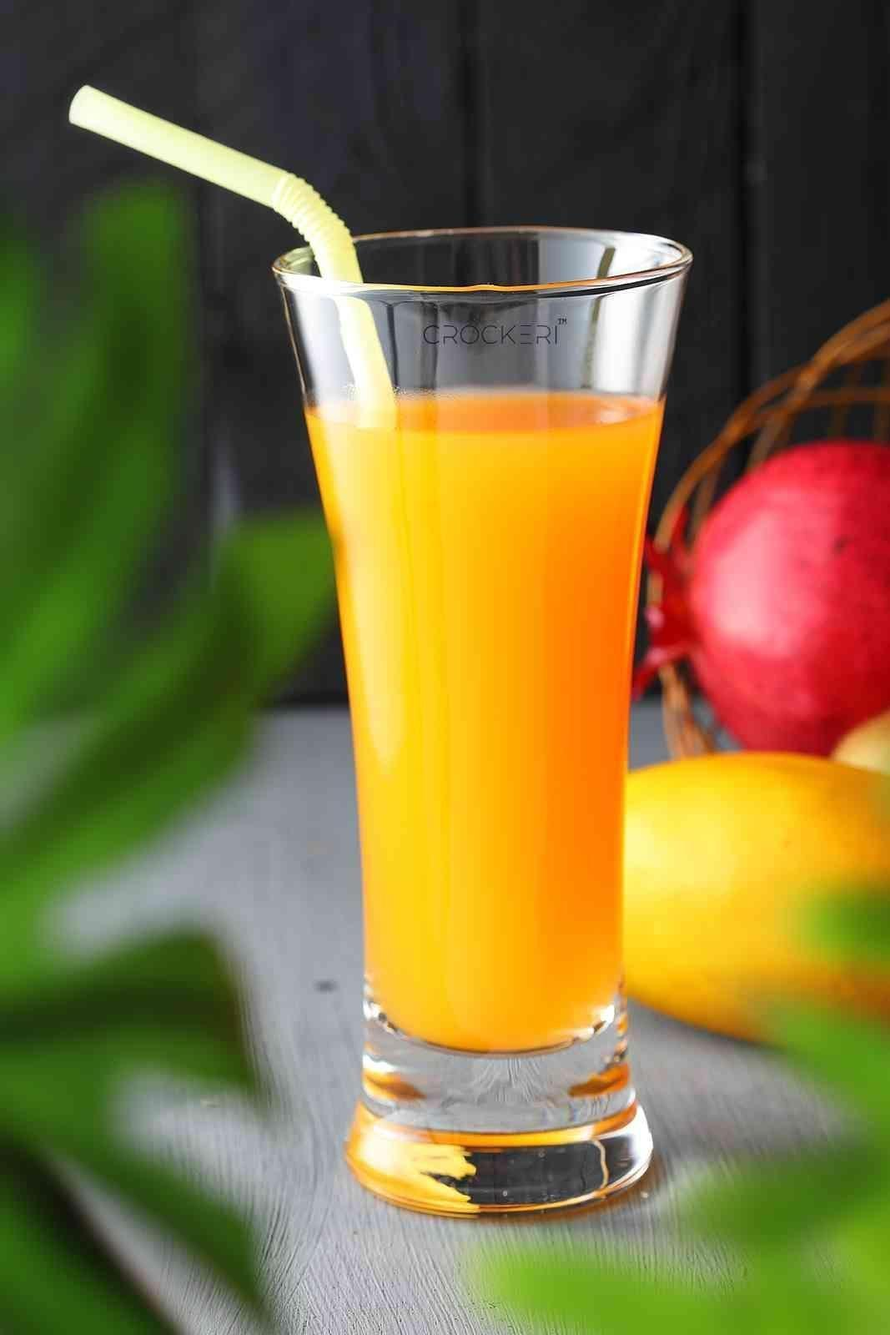glass-normal: (270, 222, 687, 1219)
